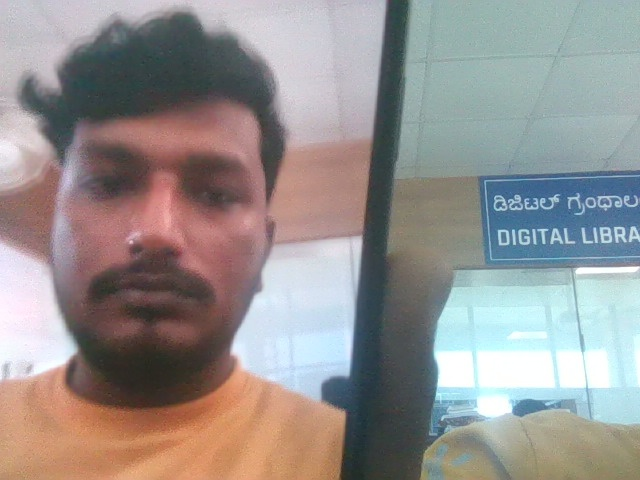fake: (12, 0, 302, 411)
